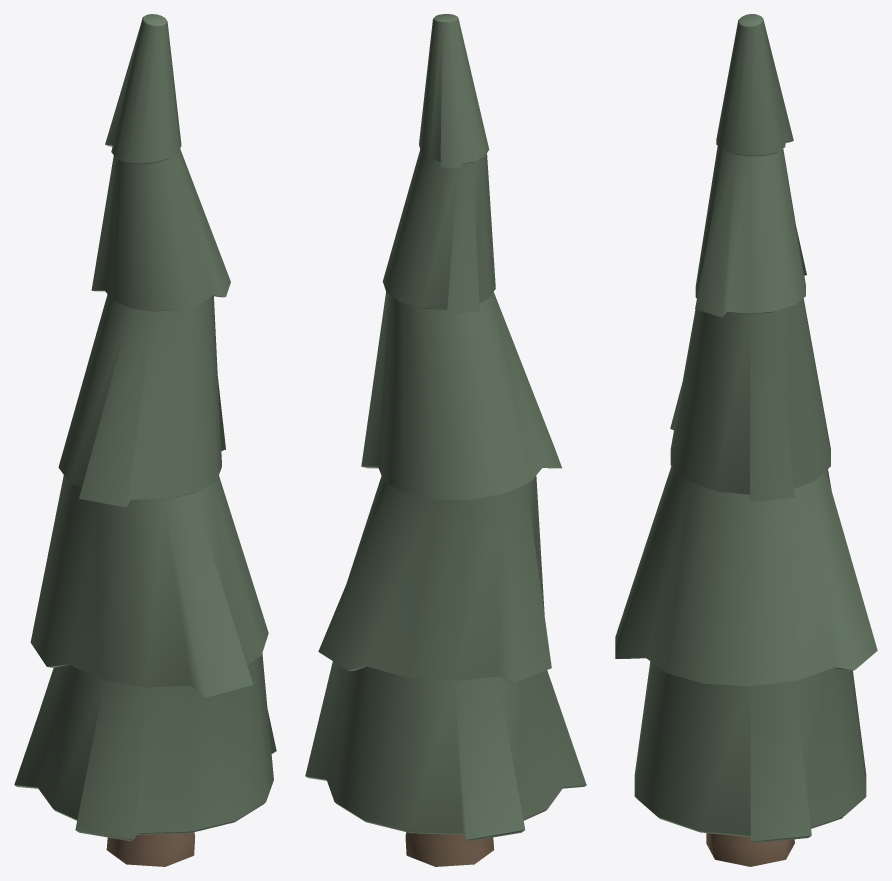
The model's file is a3d_tree_pine_02.fbx.
3 renders of one model, left to right at view 1: azimuth 30°, elevation 25°; view 2: azimuth 150°, elevation 25°; view 3: azimuth 270°, elevation 25°, orthographic.
Parts seen in each view (by area): view 1: a3d_tree_pine_LOD0; view 2: a3d_tree_pine_LOD0; view 3: a3d_tree_pine_LOD0.
Boxes of the visible parts, <box> form: a3d_tree_pine_LOD0: <box>14,14,276,866</box>; a3d_tree_pine_LOD0: <box>305,14,586,866</box>; a3d_tree_pine_LOD0: <box>615,14,877,866</box>.
Size of what is drawn, in the model's own units: 7.32 by 25.03 by 7.17.
